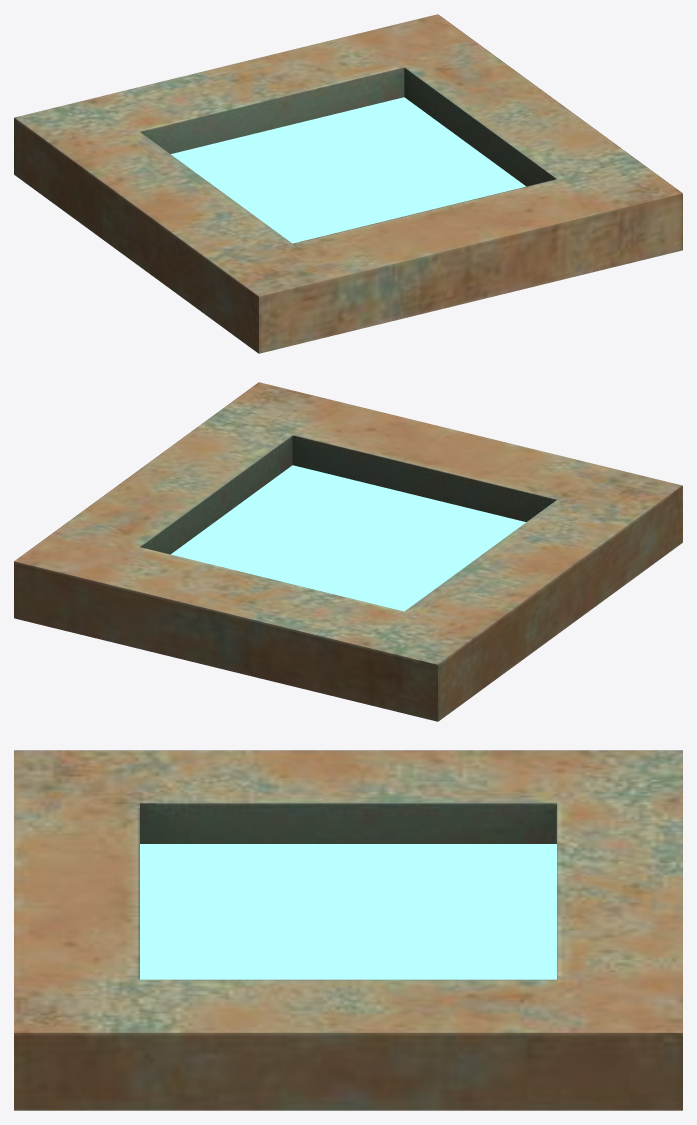
File: e2aa9993-d6c7-46cf-a915-359ea210aaea.glb
The picture shows the model from 3 angles, top to bottom: view 1: azimuth 30°, elevation 25°; view 2: azimuth 150°, elevation 25°; view 3: azimuth 270°, elevation 25°; orthographic projection. The views are drawn at different scales.
Visible parts, largest first — view 1: steampunkPickupShieldBase; view 2: steampunkPickupShieldBase; view 3: steampunkPickupShieldBase.
Boxes of the visible parts, box(x1,y1,x2,y2) form: steampunkPickupShieldBase: box(14, 14, 682, 353); steampunkPickupShieldBase: box(14, 382, 682, 721); steampunkPickupShieldBase: box(14, 750, 682, 1110).
Bounding box in the file's own units: 0.4835 × 0.0621 × 0.4835.
Materials: 2 (1 with a texture image).
